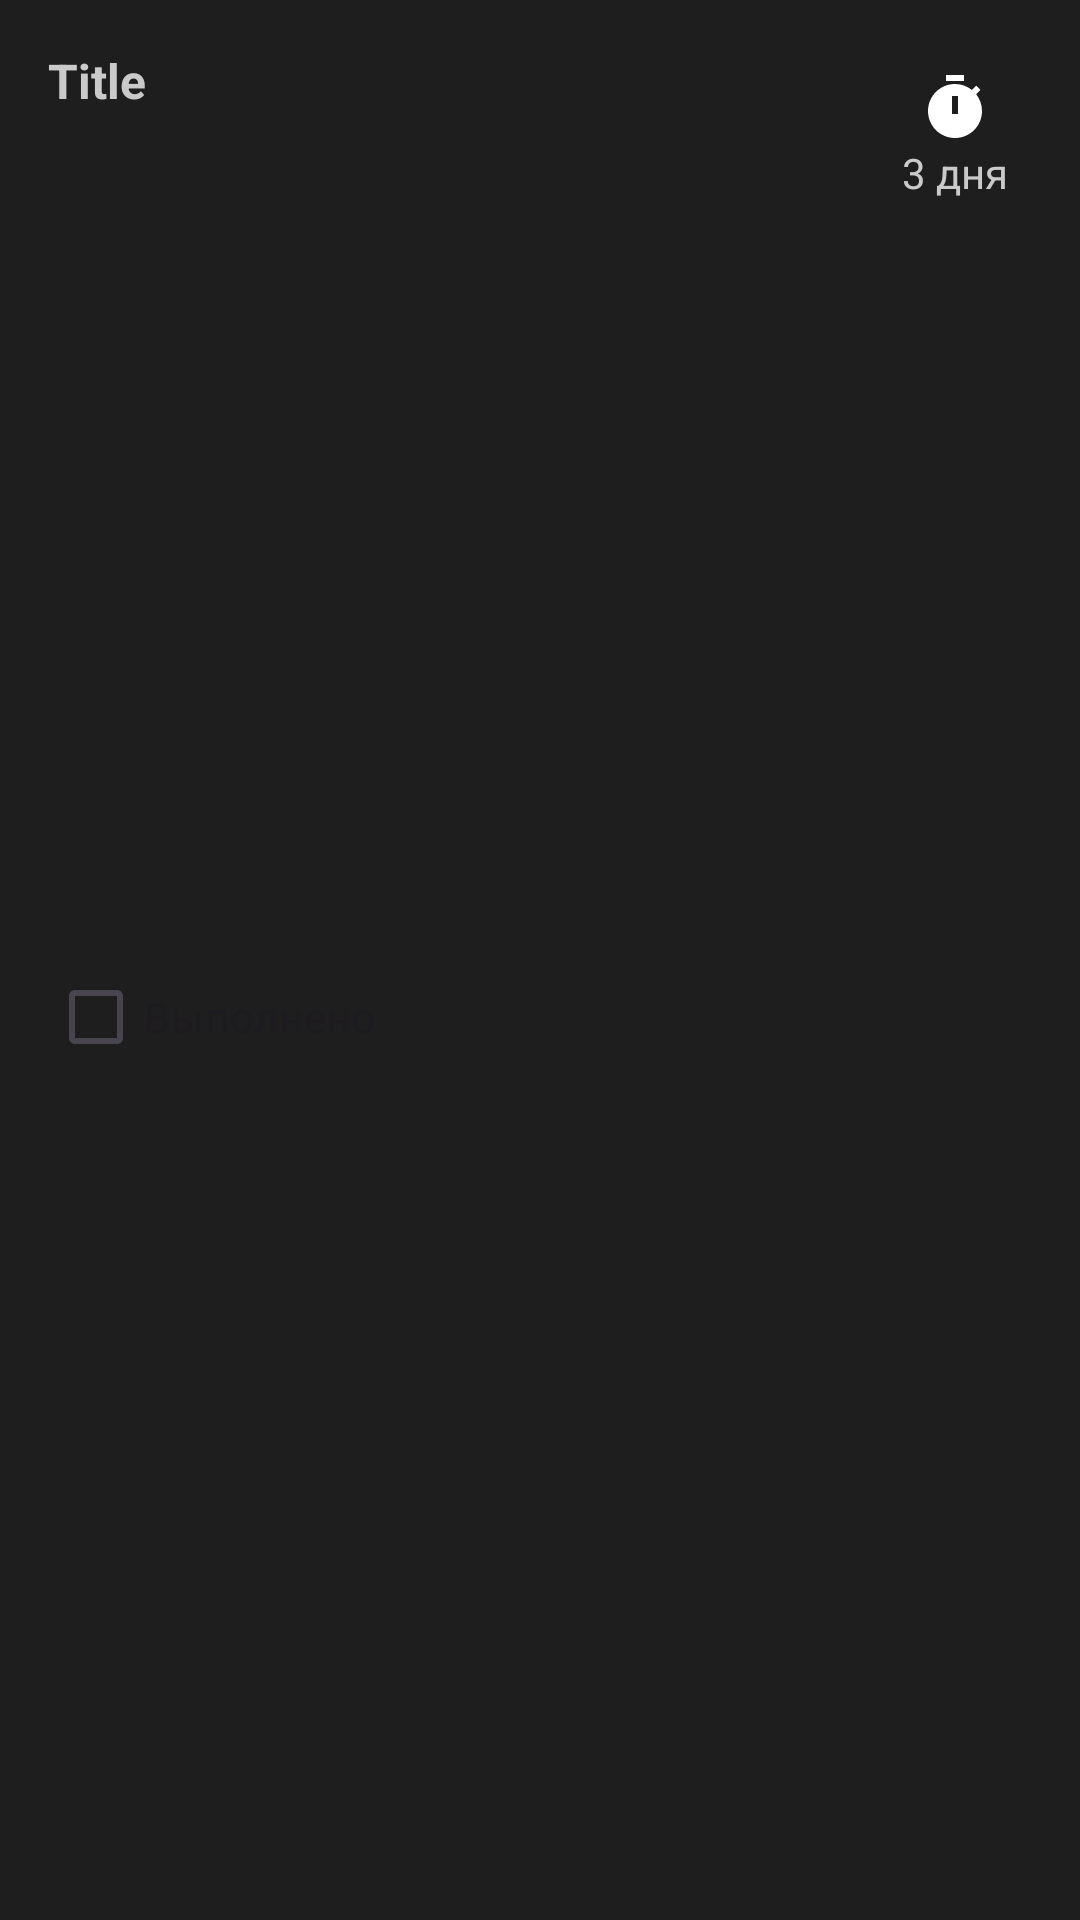

Named icons in this screenshot (1080 x 1920) and their centers, point (x, y):
timer: point (955, 106)
